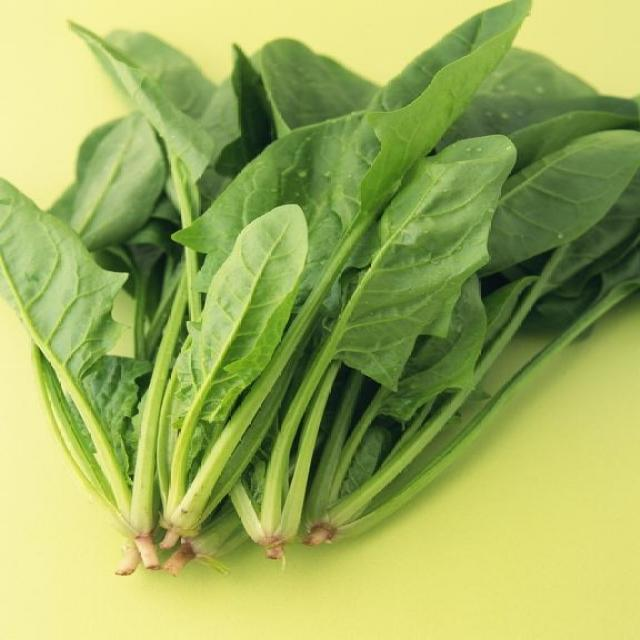spinach: (336, 138, 520, 384), (347, 0, 540, 145), (183, 206, 316, 400), (503, 126, 640, 257), (65, 112, 163, 235)
